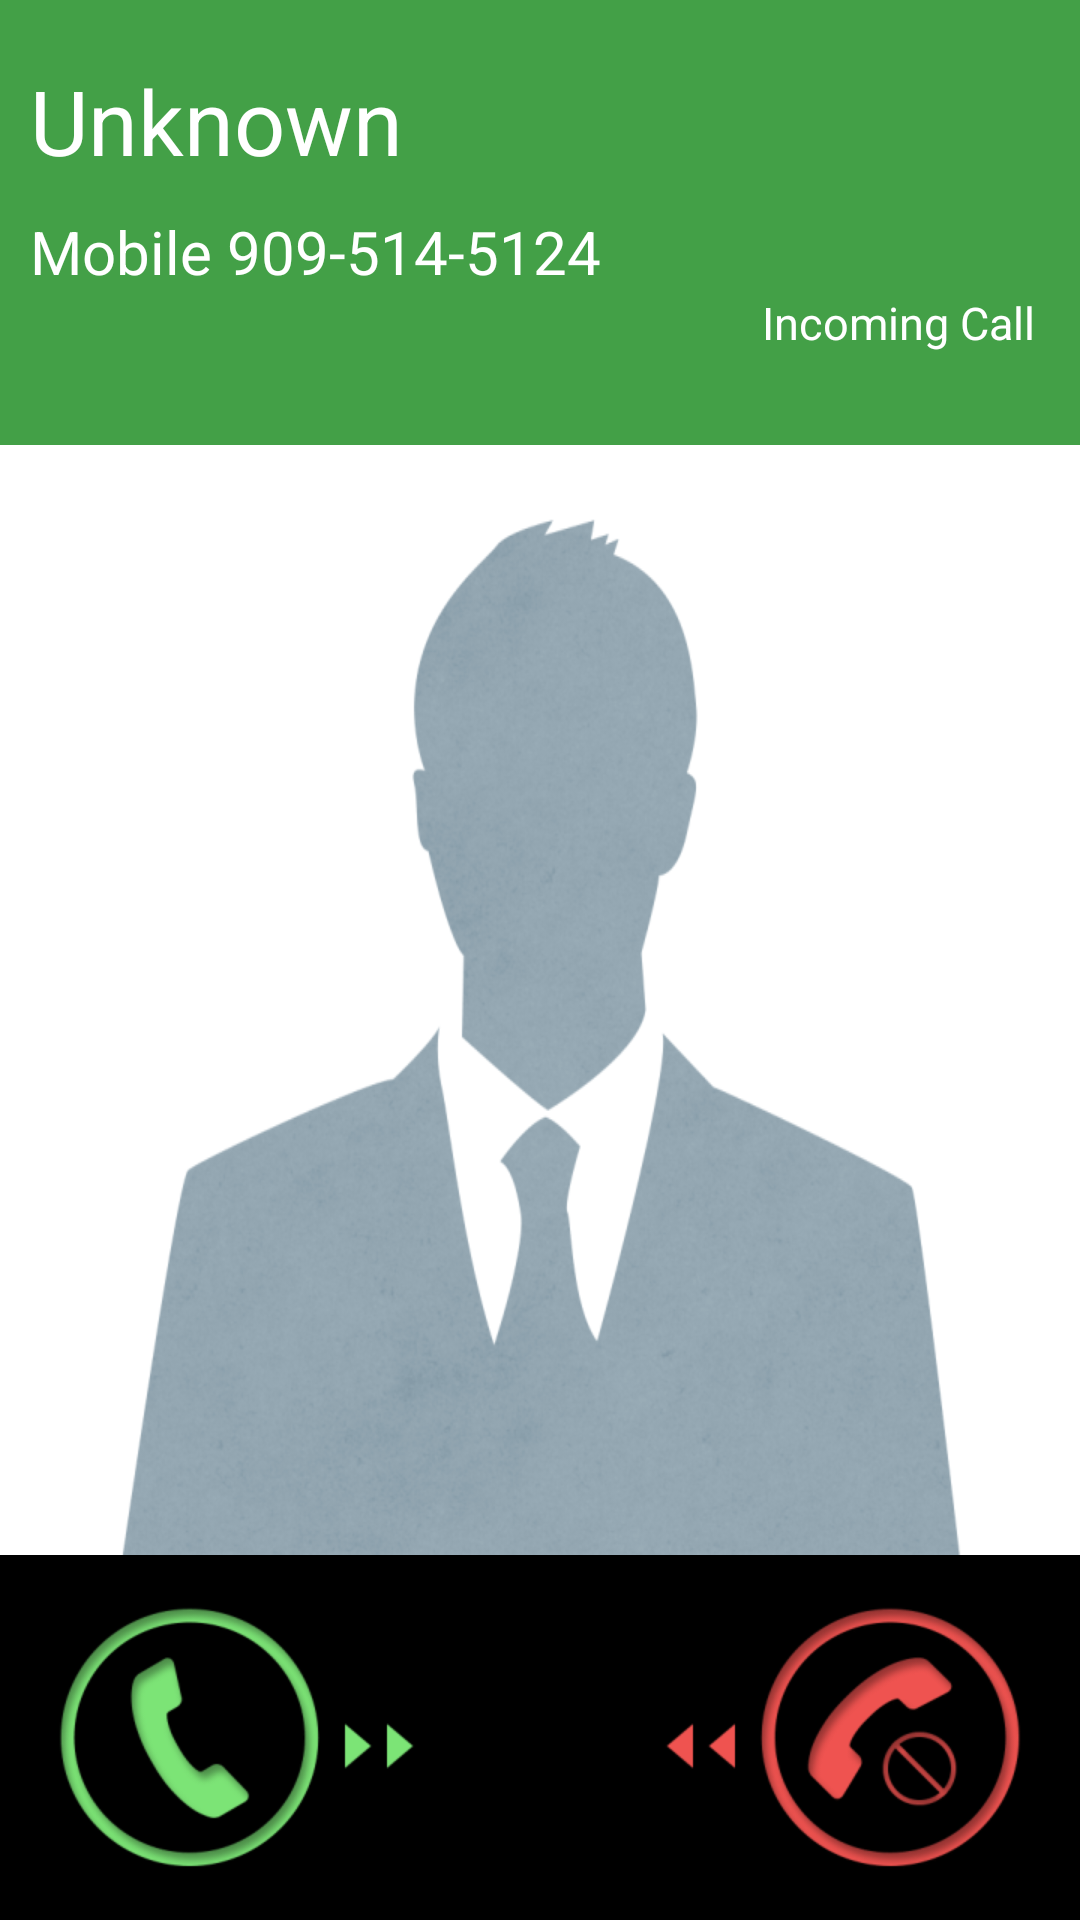

Icon bounding boxes for this 1080 x 1920 phone screenshot, format rect(x1, y1, x2, y2):
answer: rect(60, 1608, 413, 1867)
hung up: rect(667, 1608, 1020, 1867)
